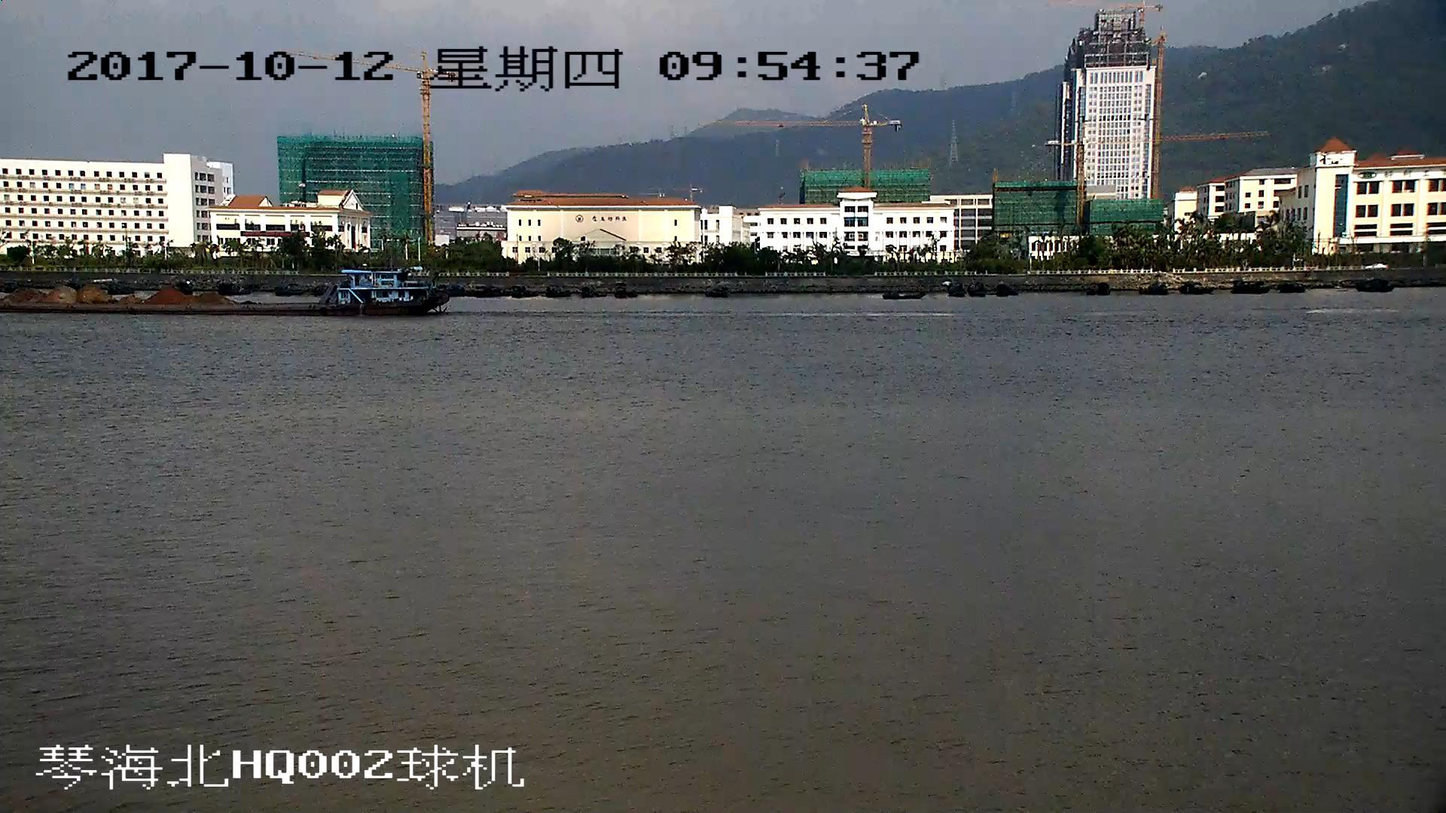ore carrier: (0, 269, 448, 314)
